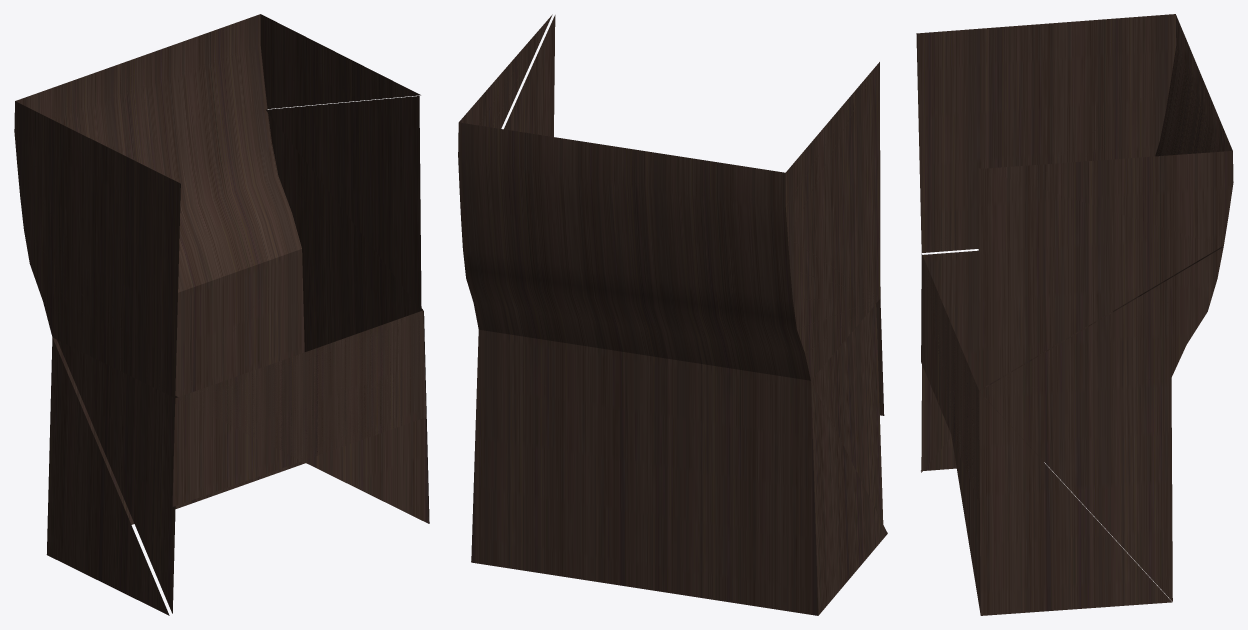
Rendered from 凤凰台.FBX.
3 views of the same model, side by side, from view 1: azimuth 30°, elevation 25°; view 2: azimuth 150°, elevation 25°; view 3: azimuth 270°, elevation 25° (orthographic). The views are drawn at different scales.
Parts seen in each view (by area): view 1: 凤凰台, 对象045, 对象046; view 2: 凤凰台, 对象046, 对象045; view 3: 凤凰台, 对象045, 对象046.
Part boxes in pixels (box(x1,y1,x2,y2)): 凤凰台: box(14, 14, 428, 615); 对象045: box(266, 96, 429, 523); 对象046: box(57, 340, 177, 613); 凤凰台: box(458, 14, 887, 615); 对象046: box(811, 304, 883, 523); 对象045: box(471, 15, 555, 561); 凤凰台: box(916, 14, 1233, 612); 对象045: box(978, 168, 1221, 615); 对象046: box(921, 250, 999, 472).
Bounding box in the file's own units: 49.33 × 63.66 × 41.31.
Materials: 3 (3 with a texture image).
